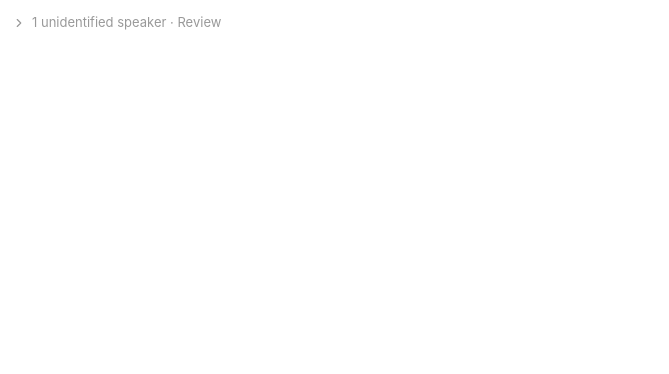
Scenario: identity controls › plays isolated samples one at a time, offers an alternate, and cleans up object URLs
Later steps or results of the test are not shown.
Click the button "1 unidentified speaker · Review".
click(117, 23)  # box [12,13,221,33]
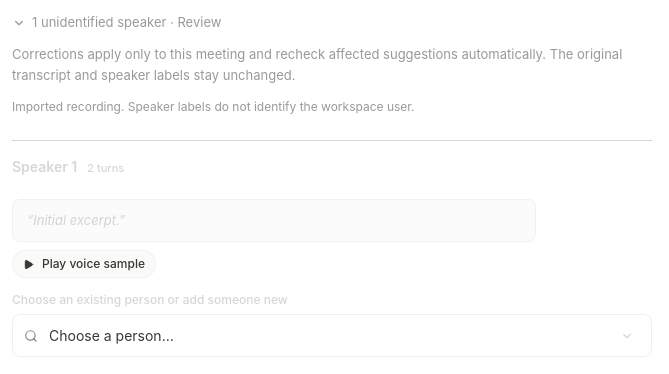
Check: the button "Play voice sample" is shown
Click the button "Play voice sample".
click(84, 264)  # box [12,250,156,278]
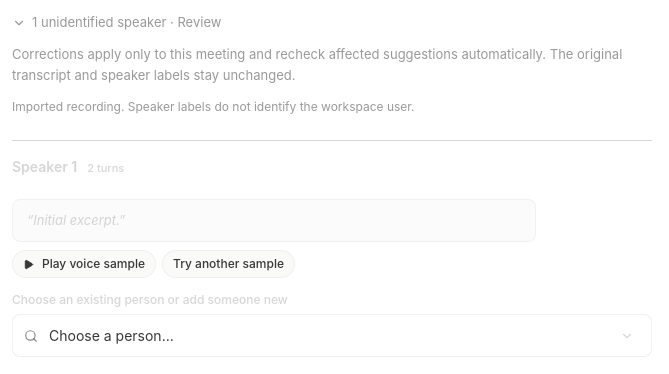
Check: the button "Try another sample" is shown, box [162,250,295,278]
